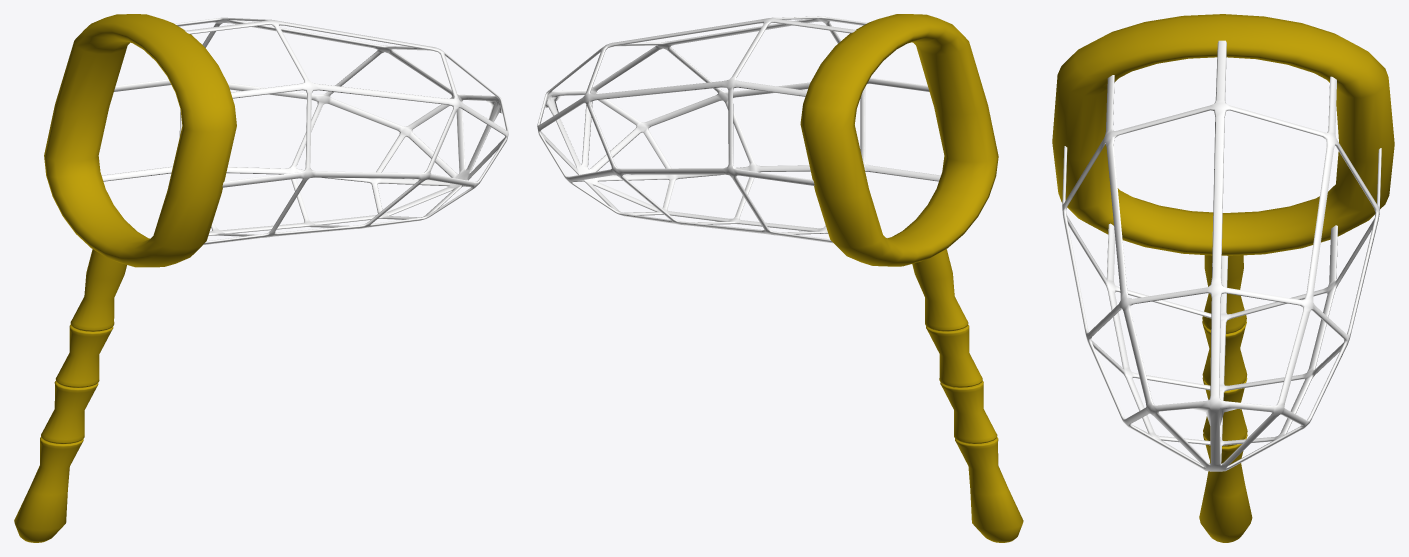
The picture shows the model from 3 angles, left to right: view 1: azimuth 30°, elevation 25°; view 2: azimuth 150°, elevation 25°; view 3: azimuth 270°, elevation 25°; orthographic projection. The views are drawn at different scales.
Parts seen in each view (by area): view 1: Jelly Fish Net; view 2: Jelly Fish Net; view 3: Jelly Fish Net.
Part boxes in pixels (x1,y1,x2,y2): Jelly Fish Net: [14, 14, 508, 542]; Jelly Fish Net: [537, 14, 1023, 542]; Jelly Fish Net: [1052, 14, 1394, 542].
Bounding box in the file's own units: 12.46 × 11.89 × 6.23.
